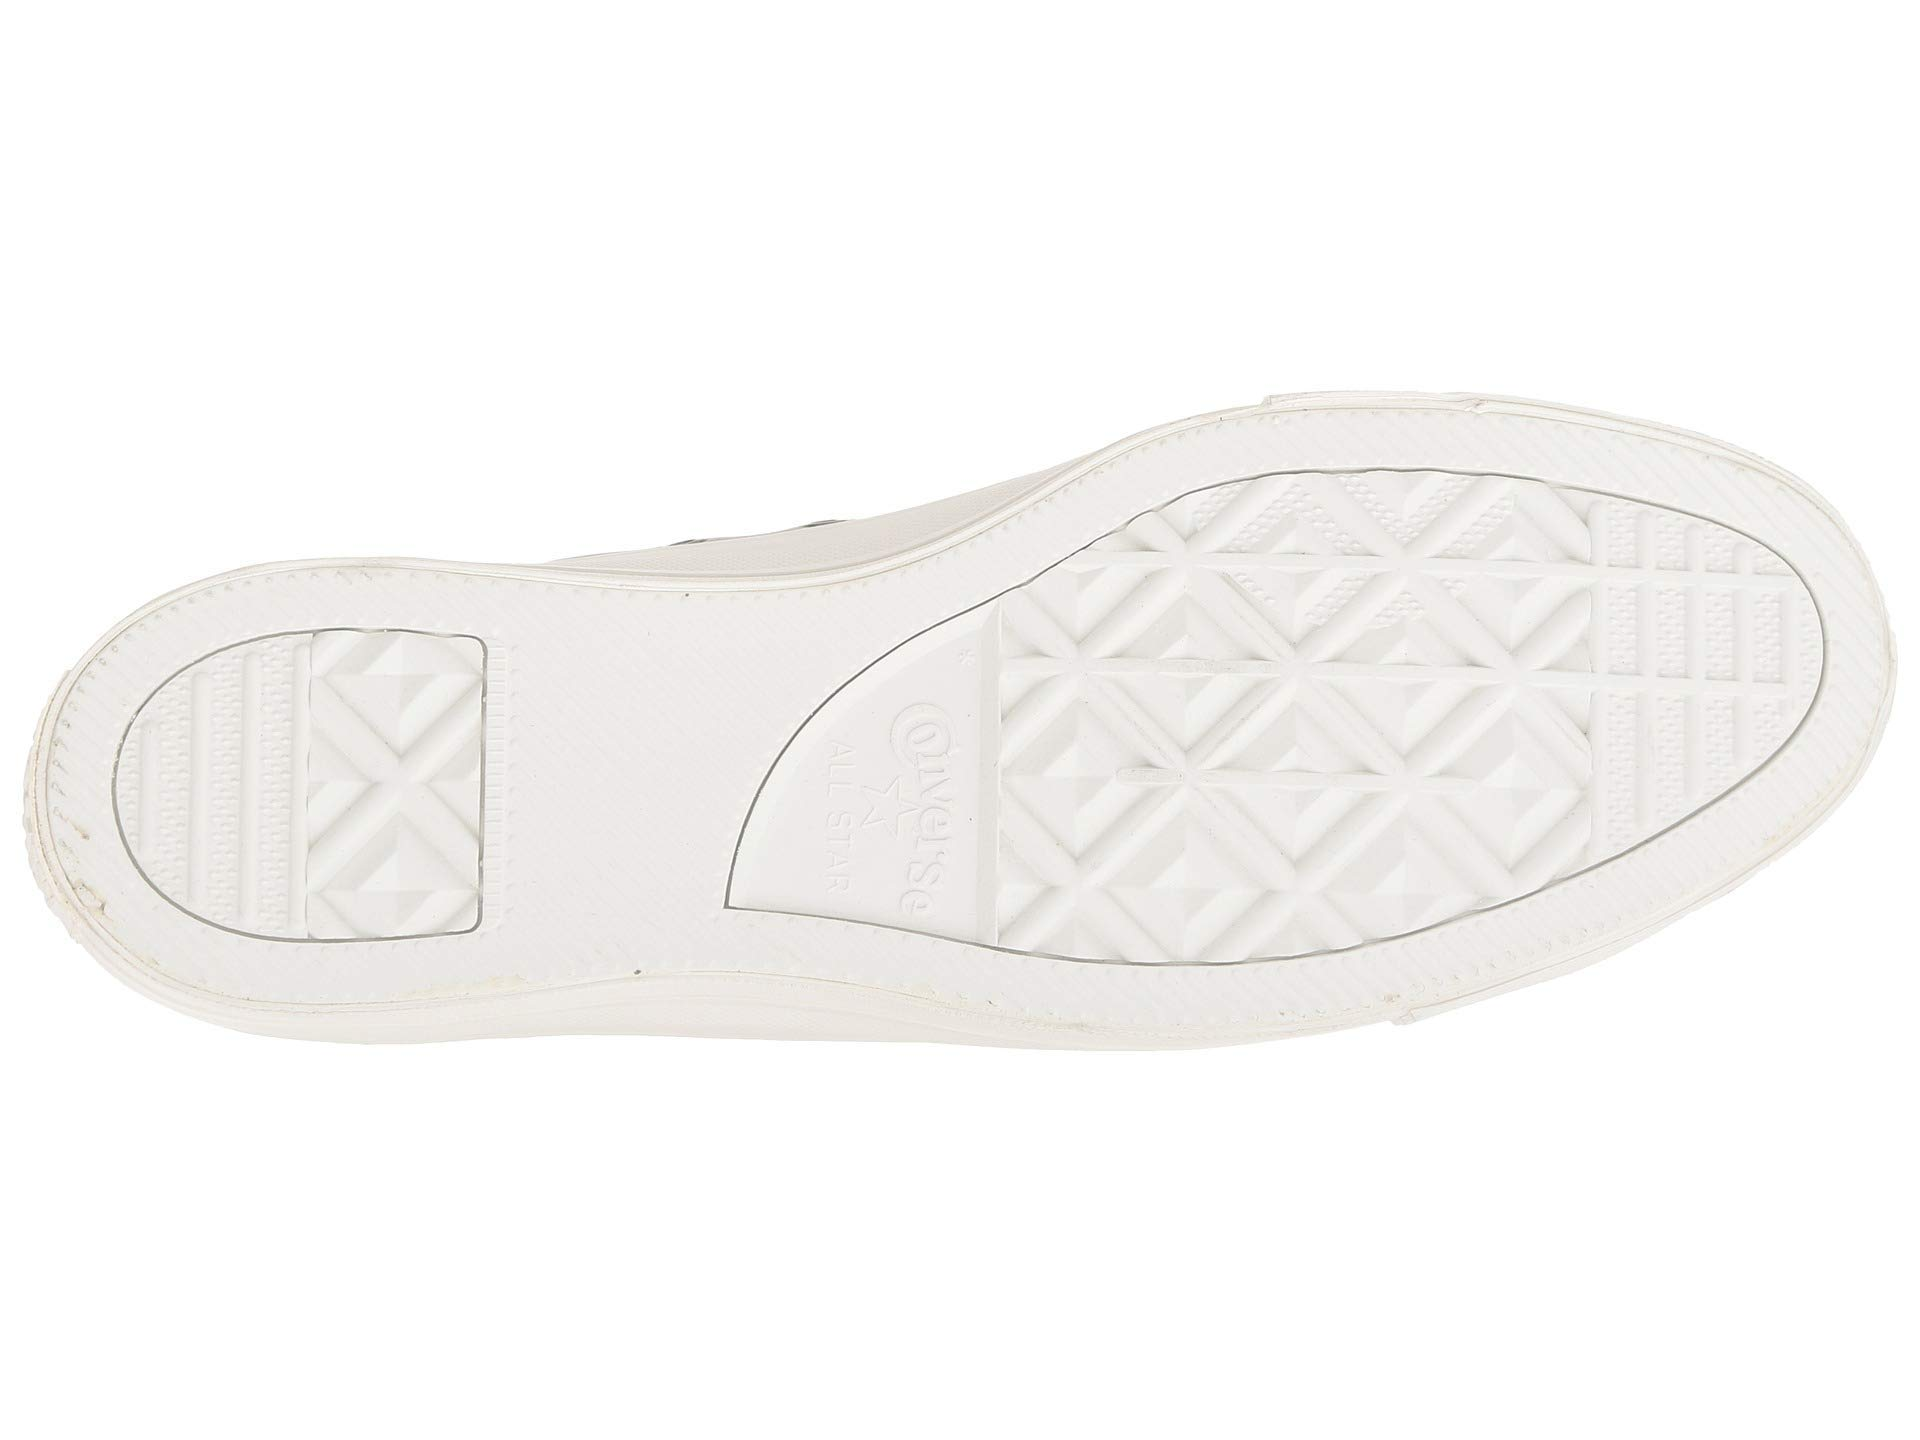circle: (1135, 498, 1562, 659), (1599, 504, 1813, 806), (815, 678, 969, 911), (144, 678, 242, 920)
line: (1135, 498, 1562, 659), (302, 625, 482, 941), (531, 638, 697, 941), (1305, 395, 1615, 473), (144, 678, 242, 920)
quad: (1135, 498, 1562, 659), (1599, 504, 1813, 806), (302, 625, 482, 941)
star: (815, 678, 969, 911)
text: (815, 678, 969, 911)
triangle: (1599, 504, 1813, 806), (302, 625, 482, 941)
